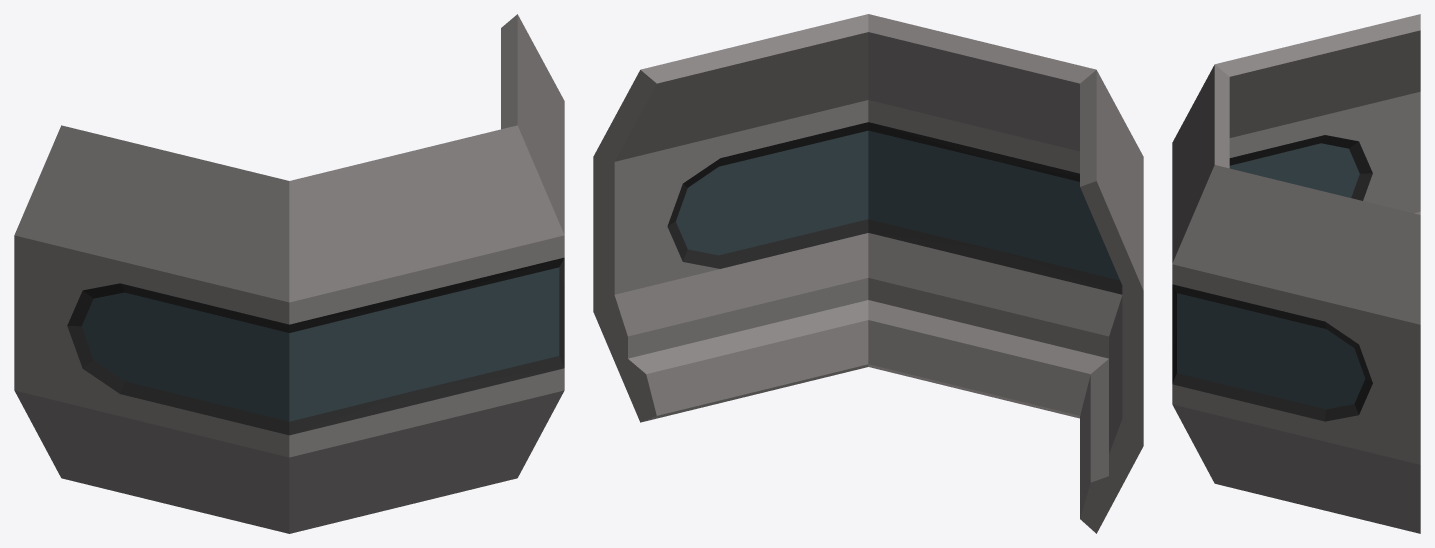
Rendered from scifi_scifi-window-corridor-turn.fbx.
3 renders of one model, left to right at view 1: azimuth 30°, elevation 25°; view 2: azimuth 150°, elevation 25°; view 3: azimuth 270°, elevation 25°, orthographic. The views are drawn at different scales.
Parts seen in each view (by area): view 1: scifi_scifi_window_corridor_turn; view 2: scifi_scifi_window_corridor_turn; view 3: scifi_scifi_window_corridor_turn.
Boxes of the visible parts, bbox=[...] form: scifi_scifi_window_corridor_turn: bbox=[14, 14, 564, 533]; scifi_scifi_window_corridor_turn: bbox=[593, 14, 1143, 533]; scifi_scifi_window_corridor_turn: bbox=[1172, 14, 1420, 533].
Size of the model in its own units: 200 by 123 by 86.6.
